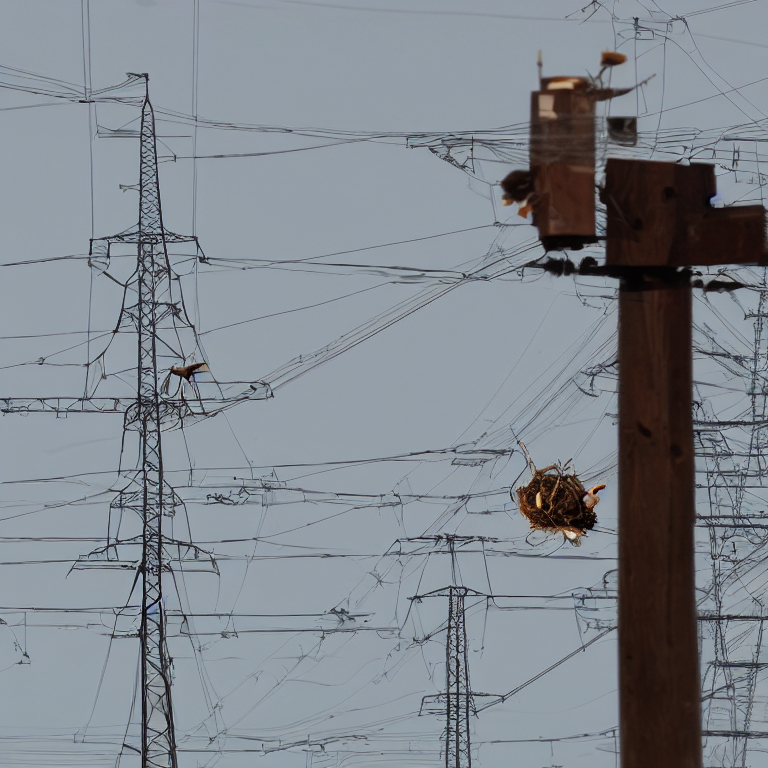nest: (520, 473, 592, 530)
